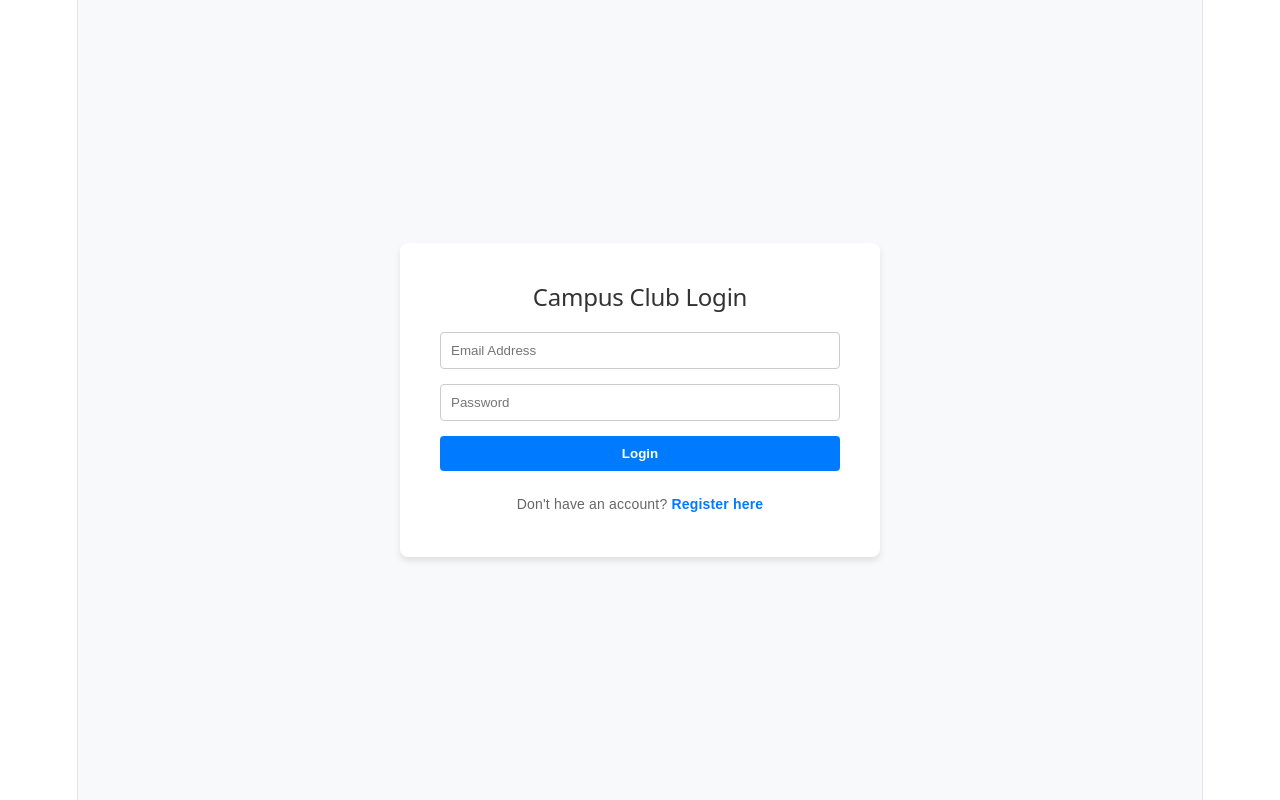
Login component › displays error message when authentication fails
The width and height of the screenshot is (1280, 800).
Type "wrong@example.com" into the field with placeholder "Email Address". click: (640, 350)
box: [440,332,840,369]
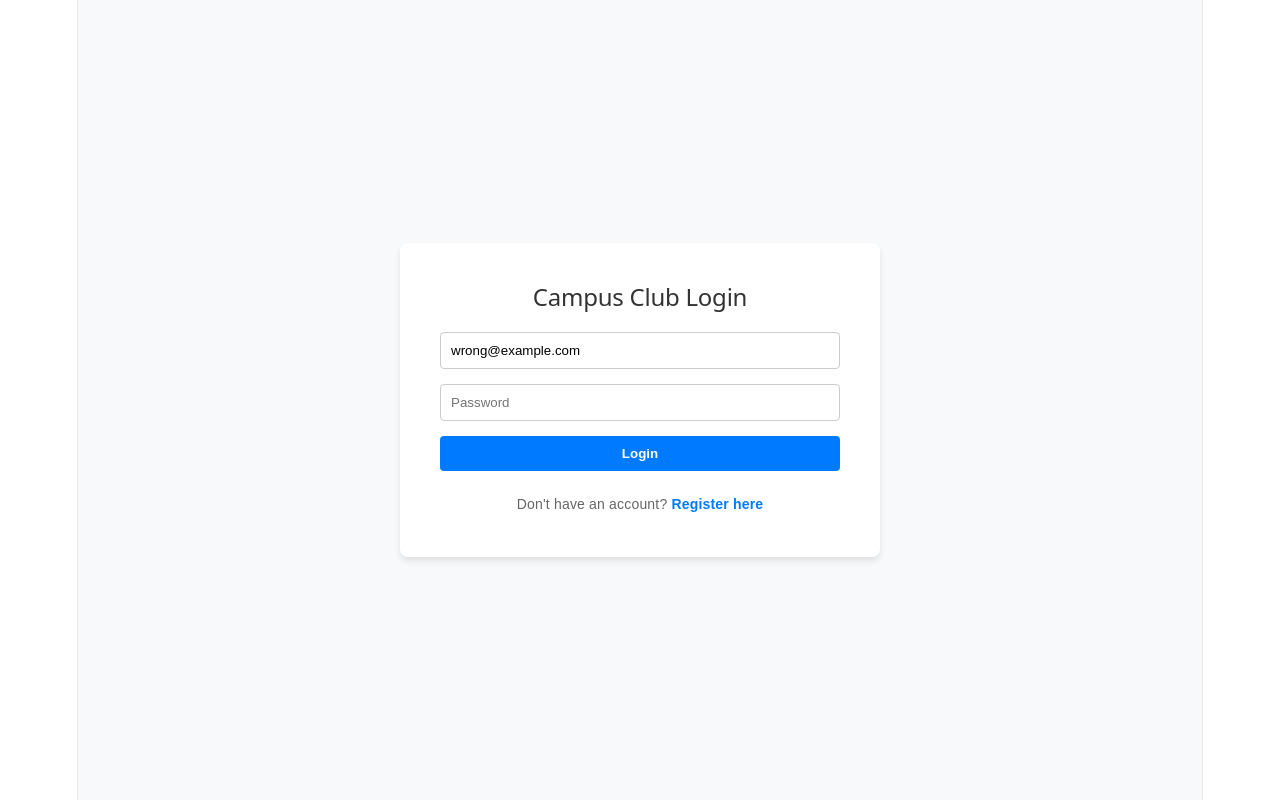
Type "badpass" into the password field with placeholder "Password". click: (640, 402)
box: [440,384,840,421]
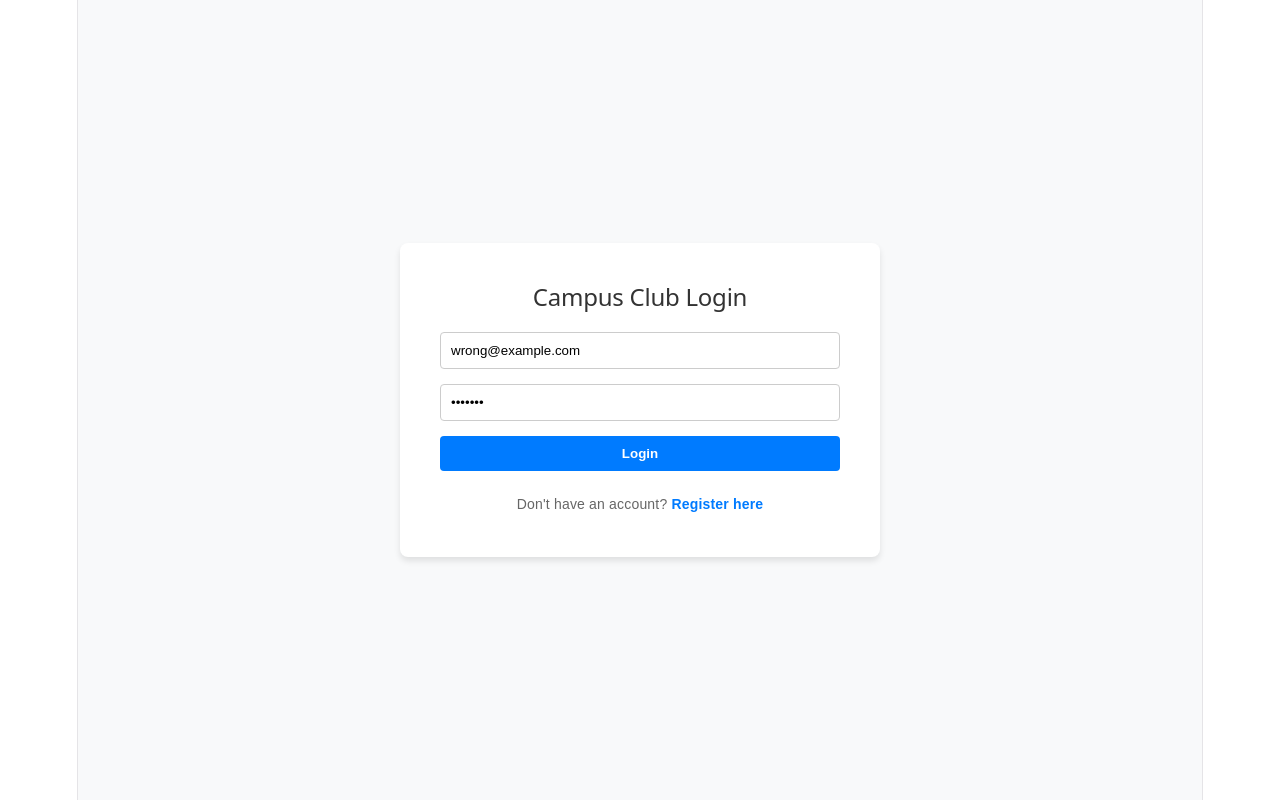
Click the button "Login". click: (640, 453)
box: [440,436,840,471]
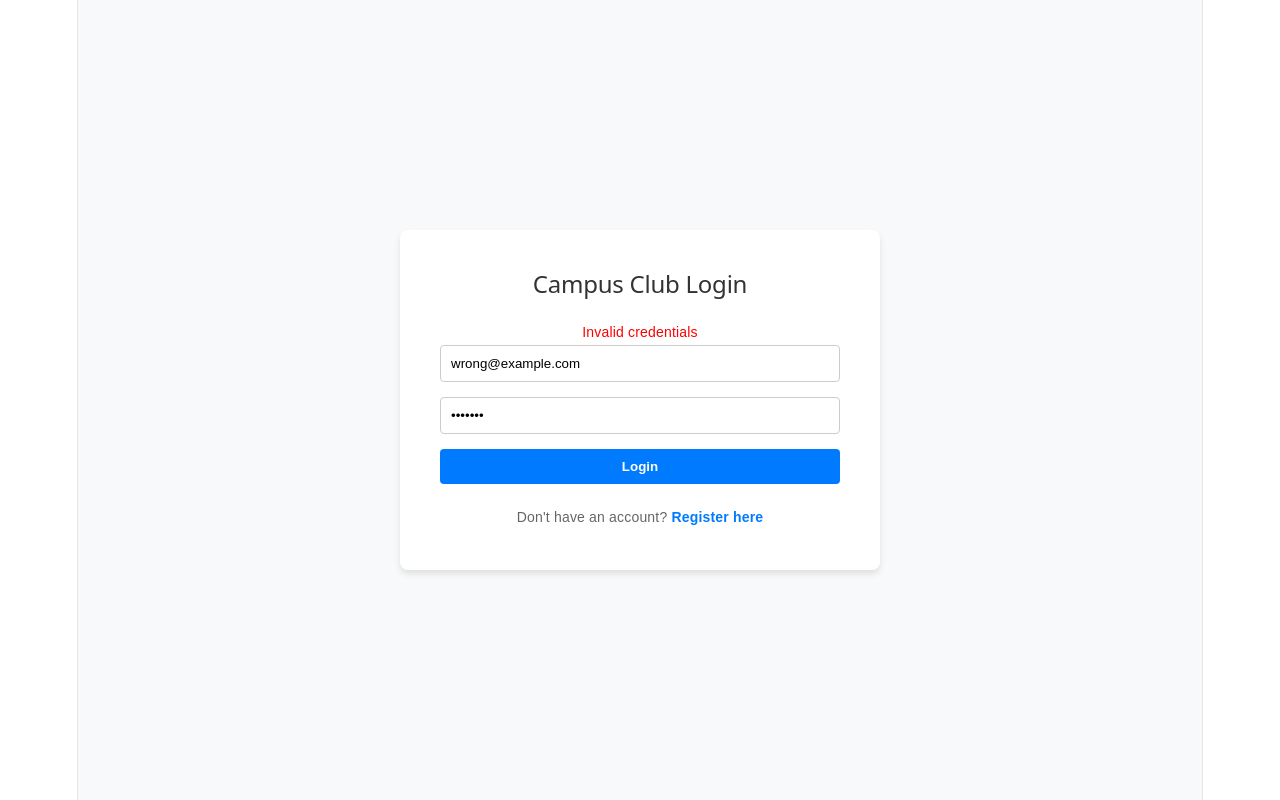
Check: the text "Invalid credentials" is shown, box [582,324,698,340]
